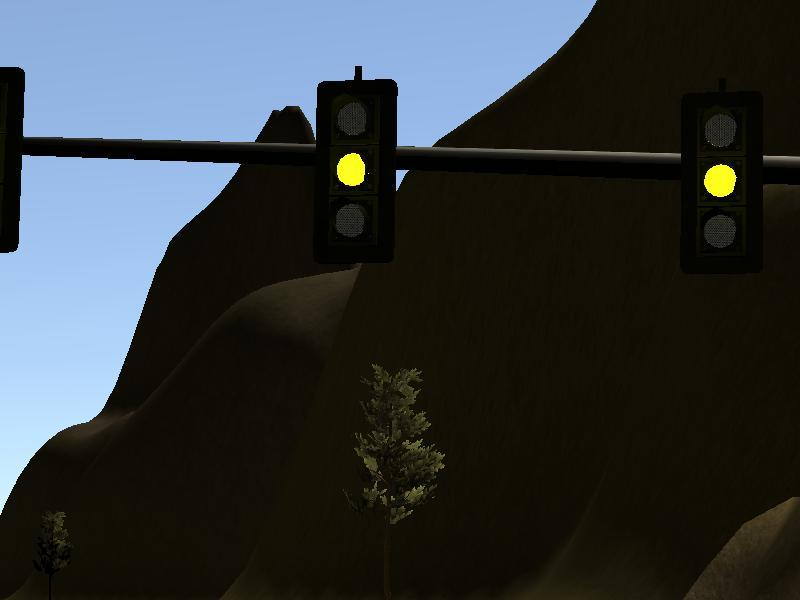Yellow: (315, 79, 397, 263), (683, 93, 763, 273)
